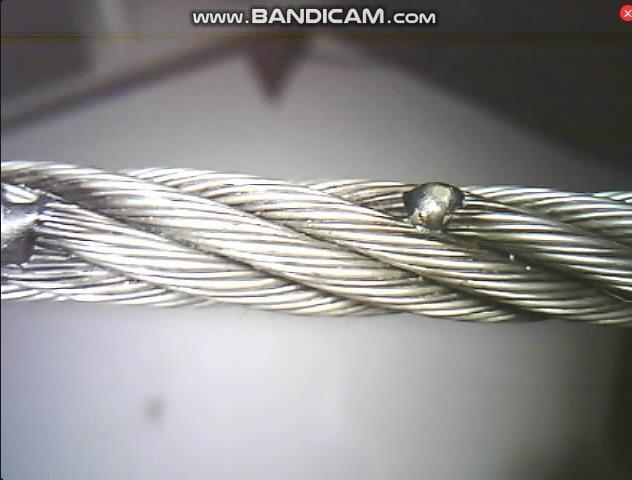thunderbolt: (388, 171, 495, 234)
